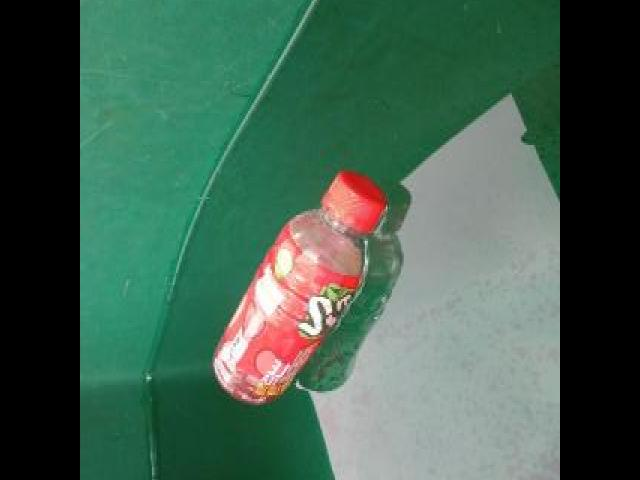Bottle: (206, 160, 395, 410)
